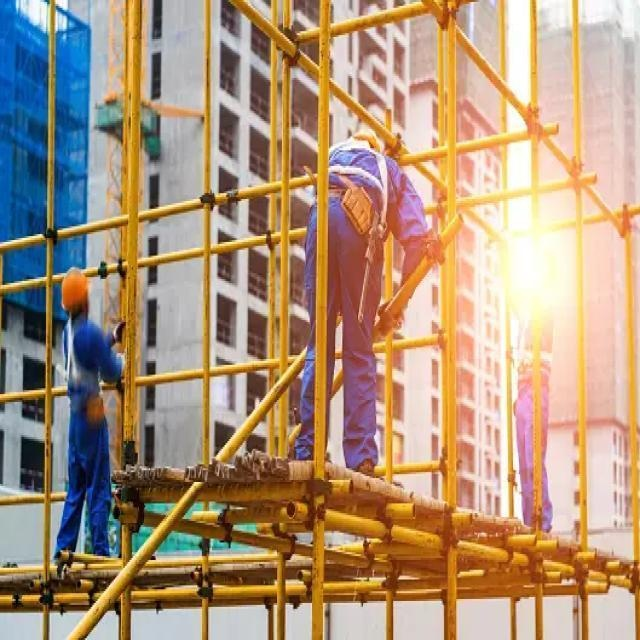Arnes_seguridad: (307, 144, 392, 245)
